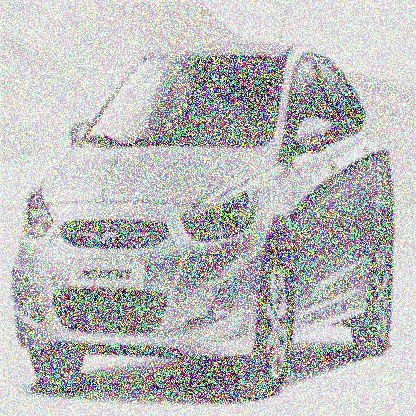Vehicle: (10, 41, 399, 397)
